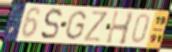0: (130, 12, 151, 45)
6: (19, 5, 43, 40)
G: (63, 10, 89, 42)
H: (104, 9, 136, 47)
S: (39, 7, 63, 42)
Z: (83, 10, 110, 44)
